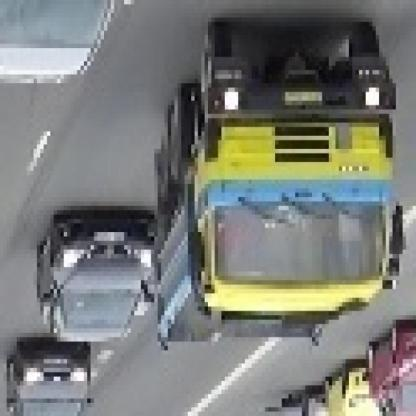truck: (148, 23, 404, 356)
